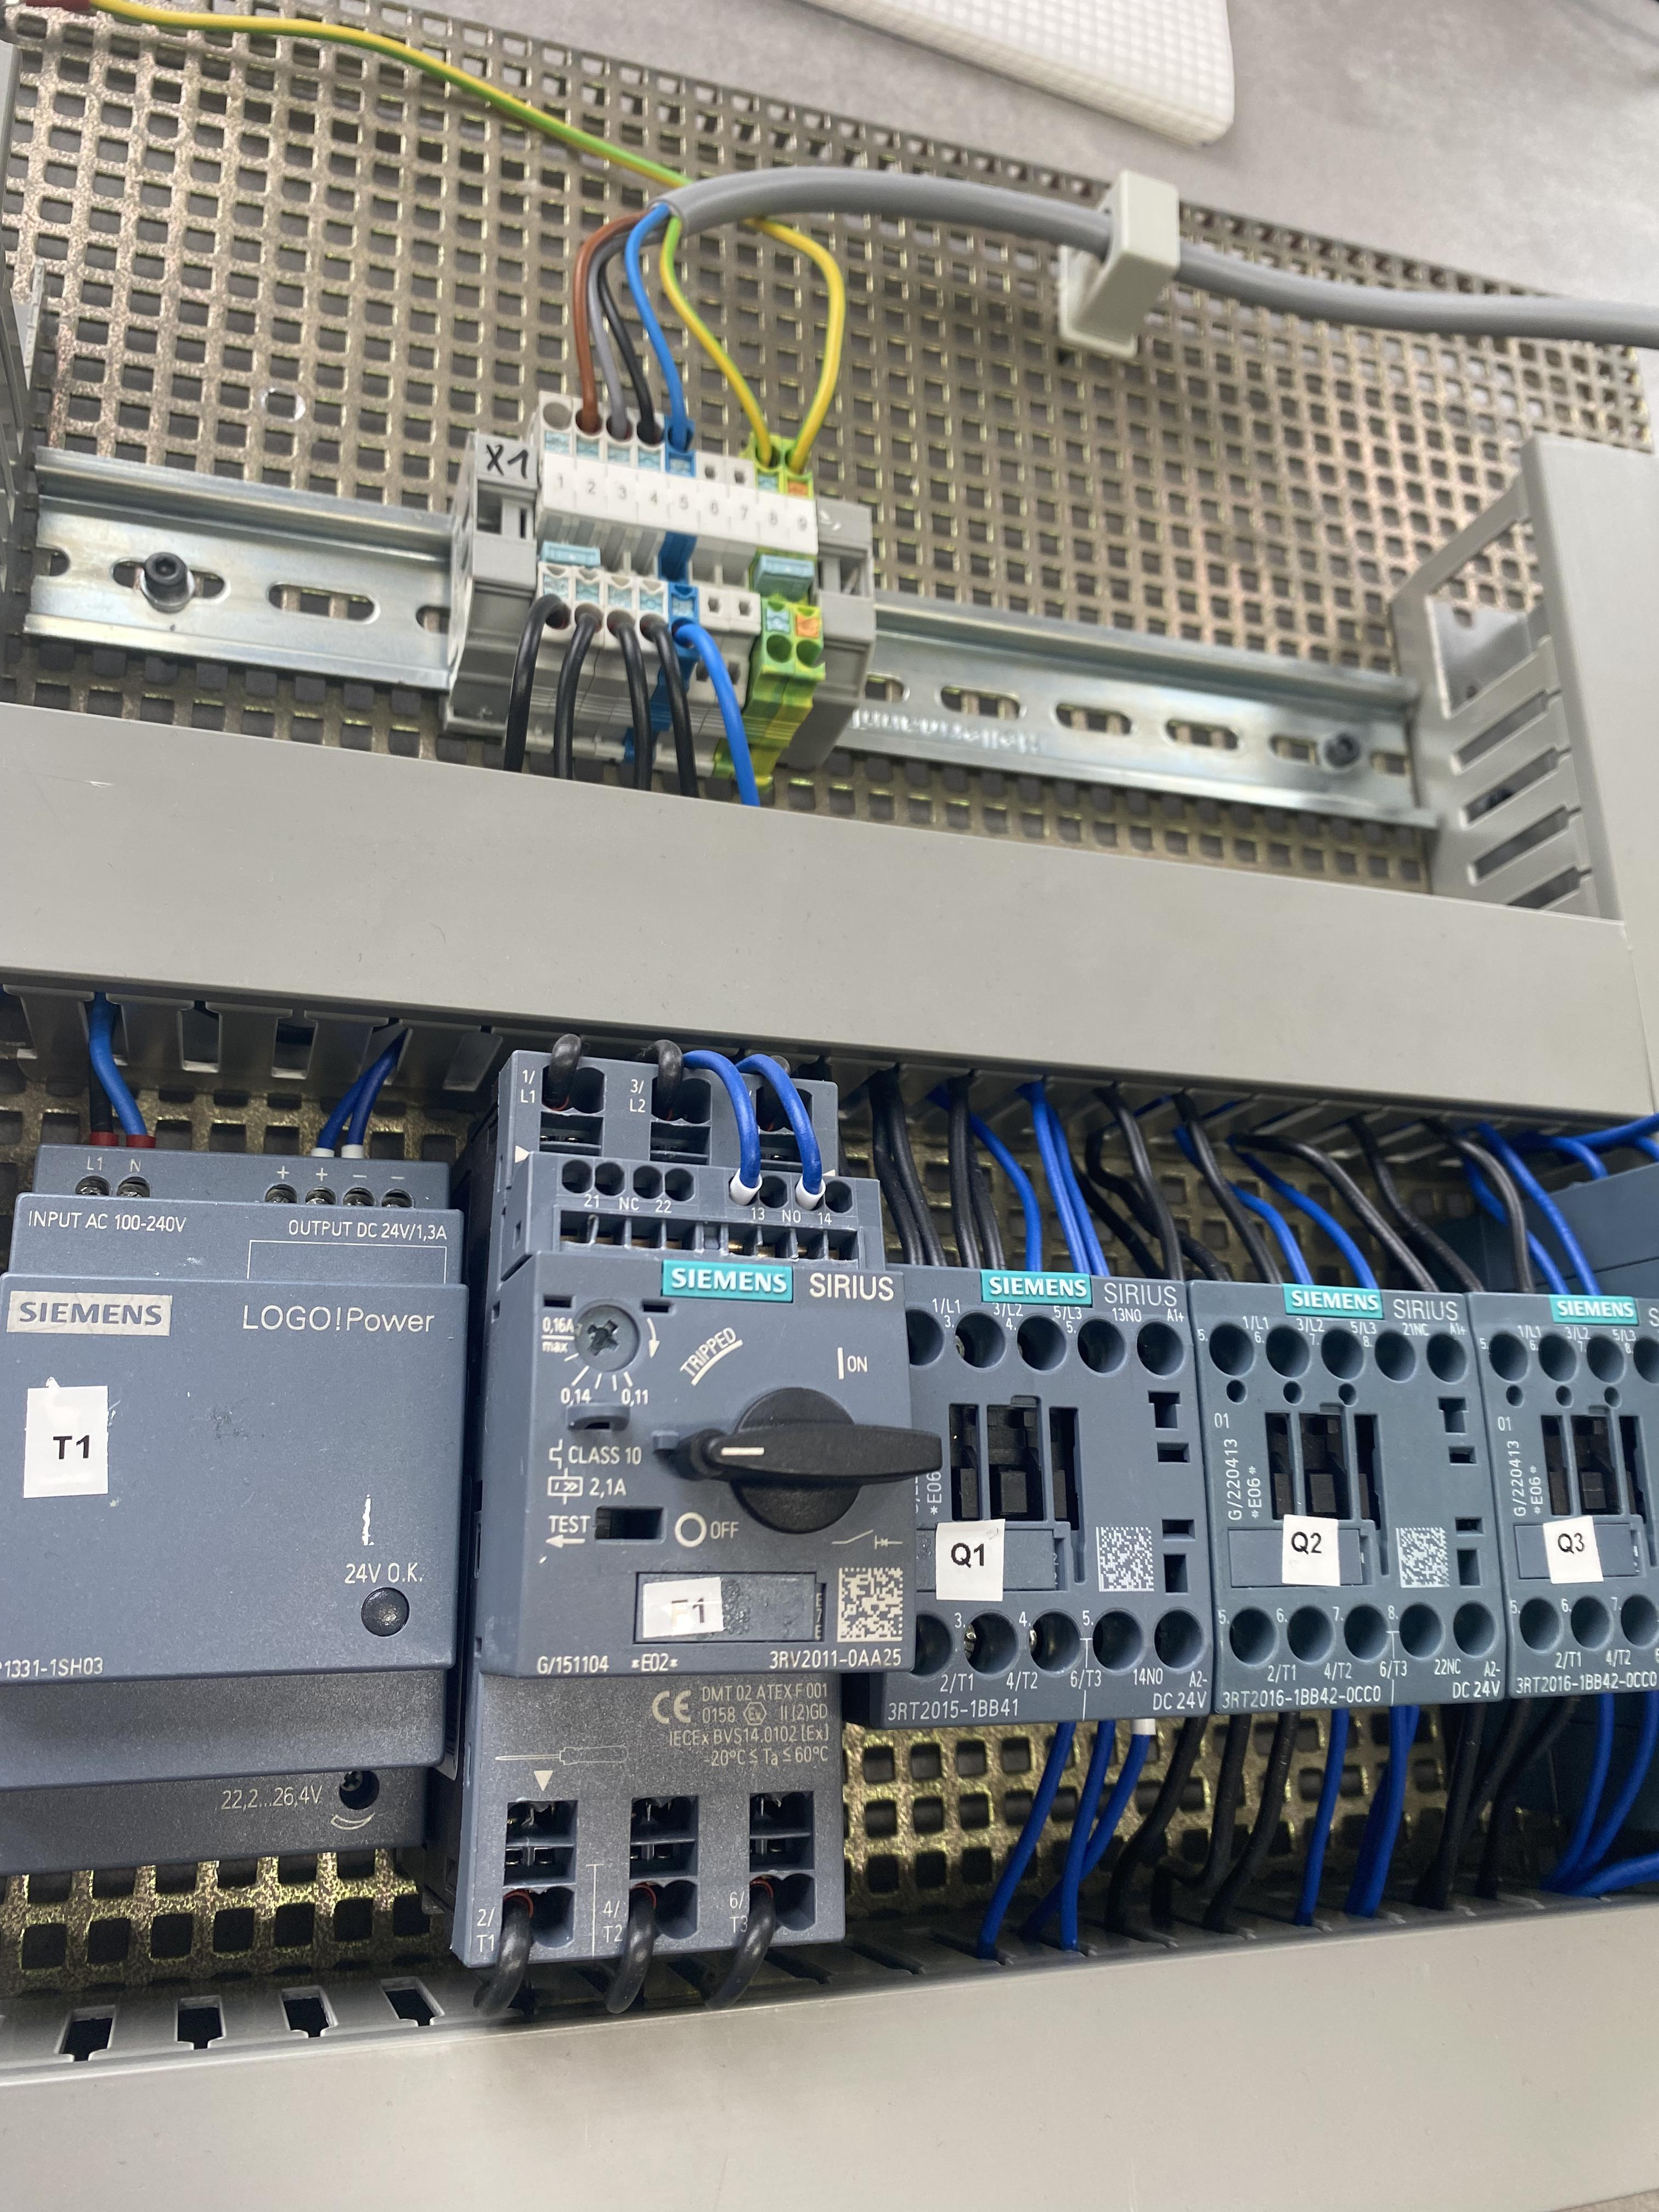F1: (467, 1050, 943, 1973)
Q: (896, 1271, 1215, 1728)
Q2: (1185, 1277, 1507, 1717)
Q3: (1473, 1291, 1656, 1693)
T1: (0, 1144, 467, 1871)
X1: (471, 395, 878, 697)
